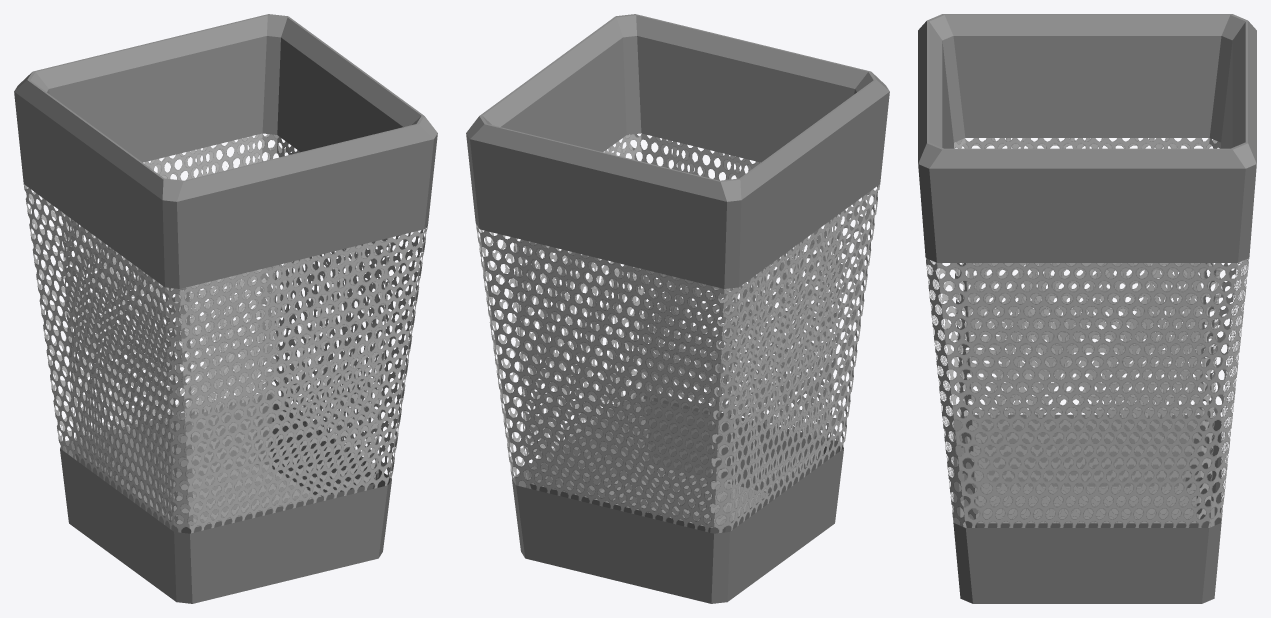
File: TNP0110035.fbx
3 views of the same model, side by side, from view 1: azimuth 30°, elevation 25°; view 2: azimuth 150°, elevation 25°; view 3: azimuth 270°, elevation 25° (orthographic). The views are drawn at different scales.
Visible parts, largest first — view 1: smTNP0110035; view 2: smTNP0110035; view 3: smTNP0110035.
Part boxes in pixels (x1,y1,x2,y2): smTNP0110035: [14, 14, 437, 603]; smTNP0110035: [466, 14, 889, 603]; smTNP0110035: [918, 14, 1256, 603].
Size of the model in its own units: 33.62 by 51.29 by 33.62.
1 material, 1 textured.
